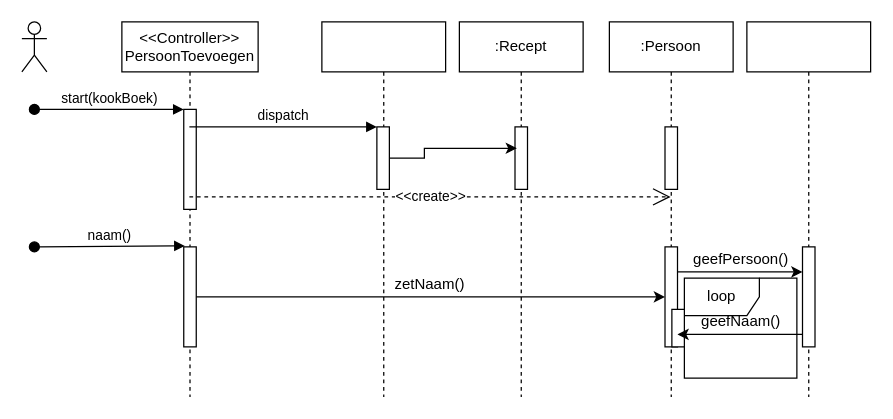
The diagram is 893 pixels wide and 419 high, and some of its shapes have lost their labels. The shapes that lost their labels are listed below. From the top down, each one's box as (x1, y1, x2, y2) in pixels, then its label:
(321, 21, 446, 397): :kookBoek
(746, 21, 871, 397): Persoon
